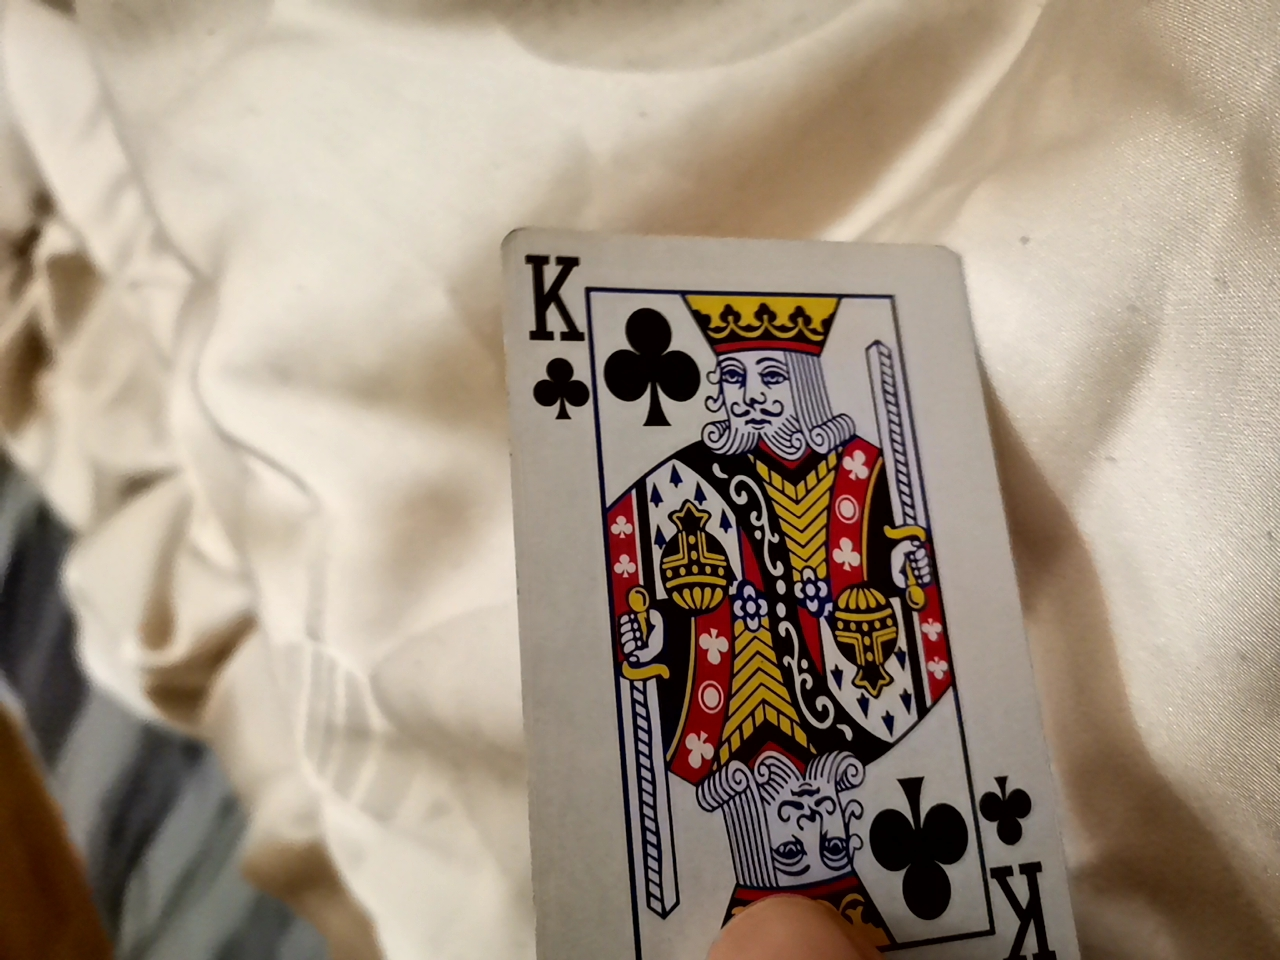mh k: (451, 203, 1093, 940)
